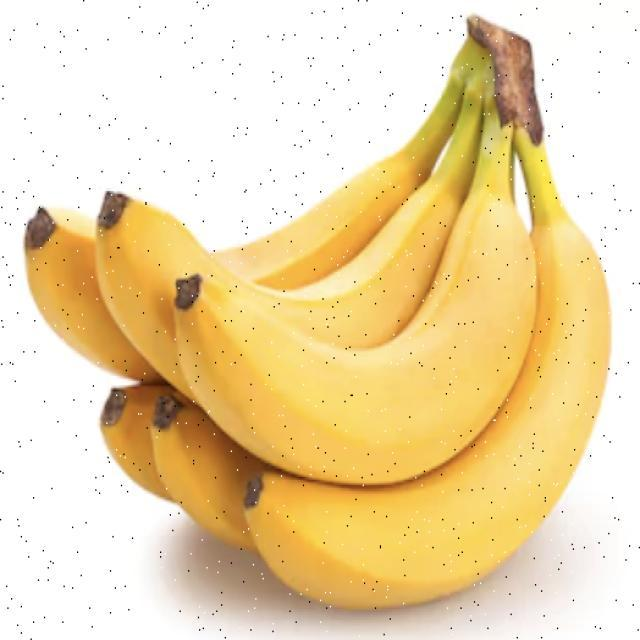Banana: (23, 14, 612, 610)
